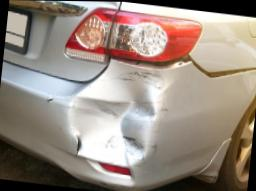Bumper: (60, 50, 202, 191)
Fender: (84, 1, 256, 78)
